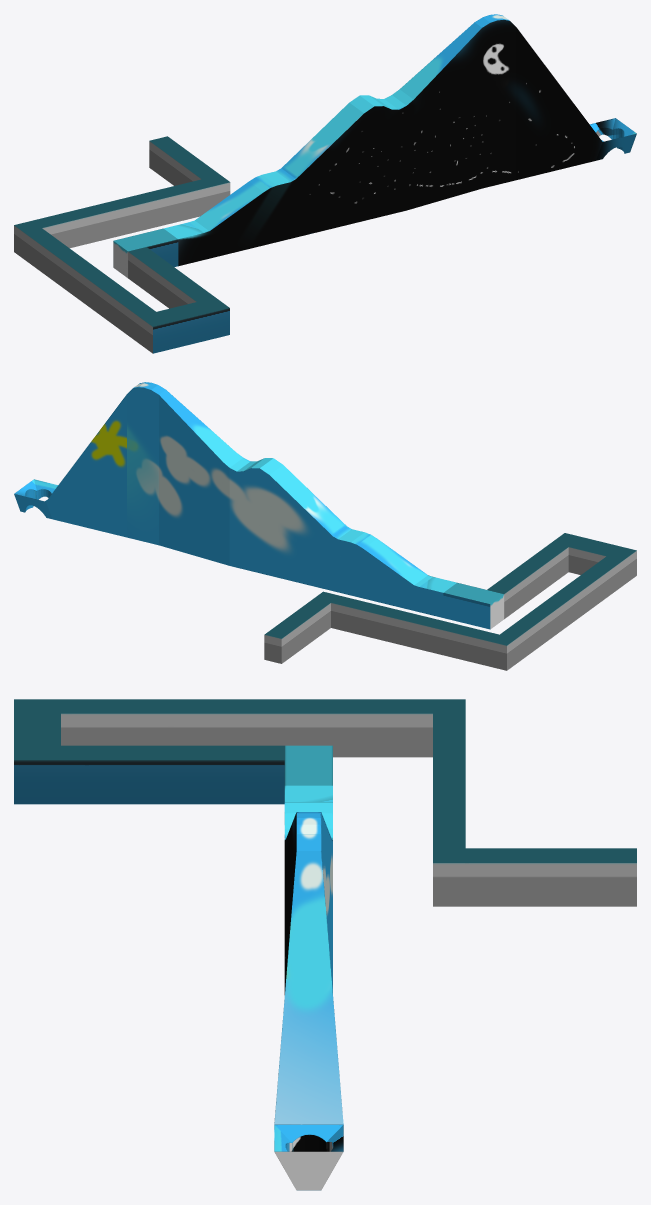
The model's file is CJ Level.fbx.
3 views of the same model, one above another, from view 1: azimuth 30°, elevation 25°; view 2: azimuth 150°, elevation 25°; view 3: azimuth 270°, elevation 25° (orthographic). The views are drawn at different scales.
Visible parts, largest first — view 1: Cube; view 2: Cube; view 3: Cube.
Part boxes in pixels (x1=…): Cube: x1=14, y1=14, x2=636, y2=353; Cube: x1=14, y1=382, x2=636, y2=670; Cube: x1=14, y1=699, x2=636, y2=1190.
Bounding box in the file's own units: 4386 × 1222 × 2580.
